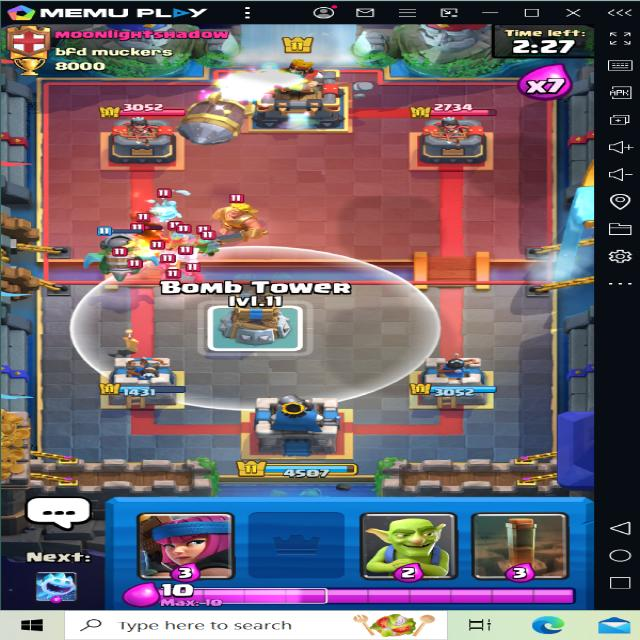Bat: (173, 262, 223, 284), (159, 266, 184, 287)
Goldenknight: (202, 198, 286, 240)
Rocket: (166, 92, 262, 153)
Speargoblin: (193, 231, 223, 258)
